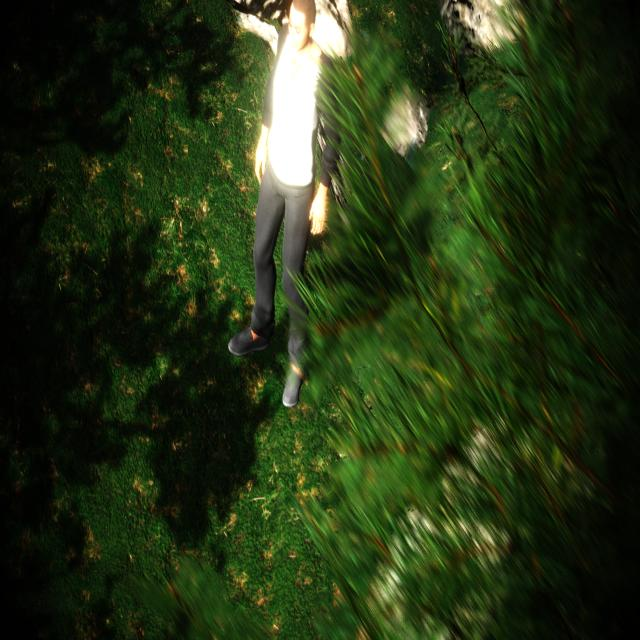Human: (222, 0, 344, 421)
